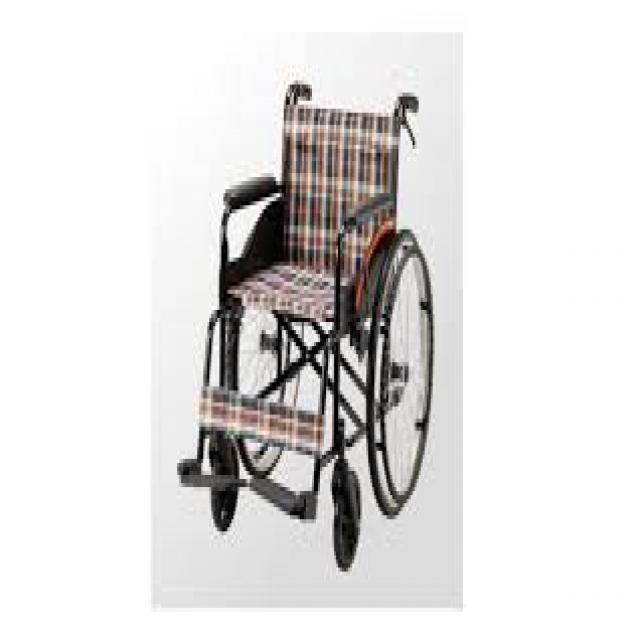wheelchair: (171, 56, 439, 604)
